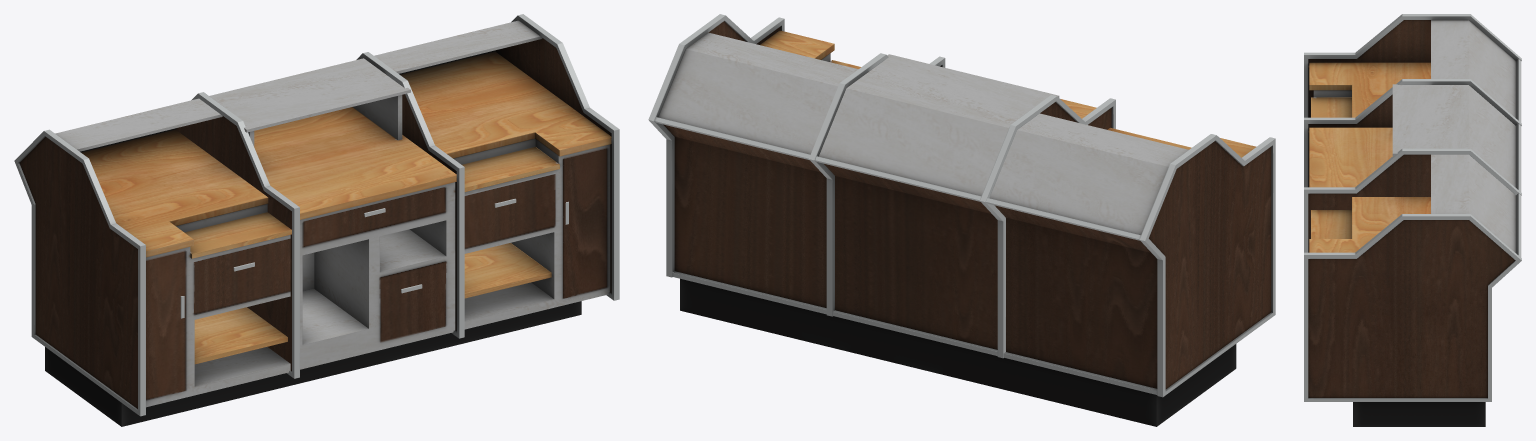
The model's file is boarding_counter_0001.fbx.
3 views of the same model, side by side, from view 1: azimuth 30°, elevation 25°; view 2: azimuth 150°, elevation 25°; view 3: azimuth 270°, elevation 25° (orthographic). The views are drawn at different scales.
Visible parts, largest first — view 1: boarding_counter_0001a, boarding_counter_0001b; view 2: boarding_counter_0001a, boarding_counter_0001b; view 3: boarding_counter_0001a, boarding_counter_0001b.
Part boxes in pixels (bbox=[...]): boarding_counter_0001a: bbox=[14, 14, 619, 426]; boarding_counter_0001b: bbox=[176, 52, 464, 378]; boarding_counter_0001a: bbox=[648, 14, 1275, 426]; boarding_counter_0001b: bbox=[809, 53, 1115, 361]; boarding_counter_0001a: bbox=[1304, 14, 1521, 426]; boarding_counter_0001b: bbox=[1304, 79, 1521, 252].
Size of the model in its own units: 2.47 by 1.22 by 1.12.
